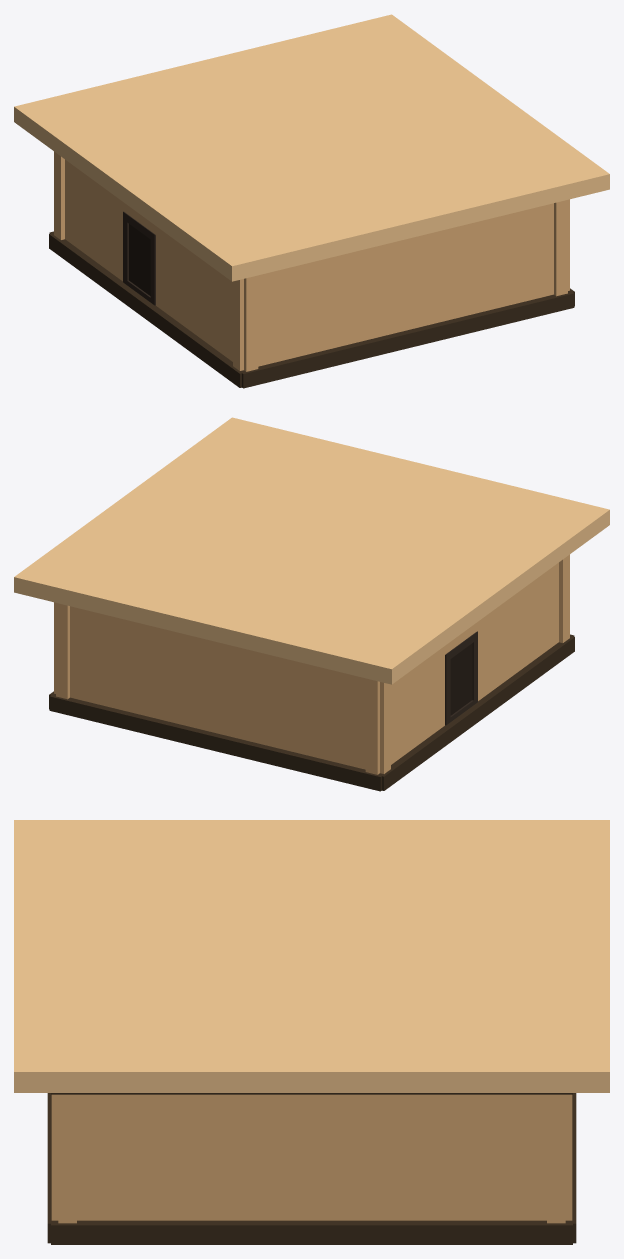
The model's file is Tutorial01.fbx.
3 views of the same model, one above another, from view 1: azimuth 30°, elevation 25°; view 2: azimuth 150°, elevation 25°; view 3: azimuth 270°, elevation 25° (orthographic). The views are drawn at different scales.
Parts seen in each view (by area): view 1: Cube.004, Cube, Cube.003, Cube.005, Cube.002, Cube.001; view 2: Cube.004, Cube.001, Cube.003, Cube.005, Cube.002, Cube; view 3: Cube.004, Cube.002, Cube, Cube.001.
Part boxes in pixels (<box>): Cube.004: <box>14,14,609,281</box>; Cube: <box>231,199,574,388</box>; Cube.003: <box>49,159,262,387</box>; Cube.005: <box>123,211,155,305</box>; Cube.002: <box>547,200,574,306</box>; Cube.001: <box>49,151,68,242</box>; Cube.004: <box>14,417,609,684</box>; Cube.001: <box>49,602,394,791</box>; Cube.003: <box>359,562,574,790</box>; Cube.005: <box>445,631,477,725</box>; Cube.002: <box>49,603,73,709</box>; Cube: <box>555,554,574,645</box>; Cube.004: <box>14,820,609,1092</box>; Cube.002: <box>51,1093,572,1244</box>; Cube: <box>47,1093,87,1243</box>; Cube.001: <box>547,1093,576,1243</box>.
Size of what is drawn, in the model's own units: 732 by 253 by 732.
